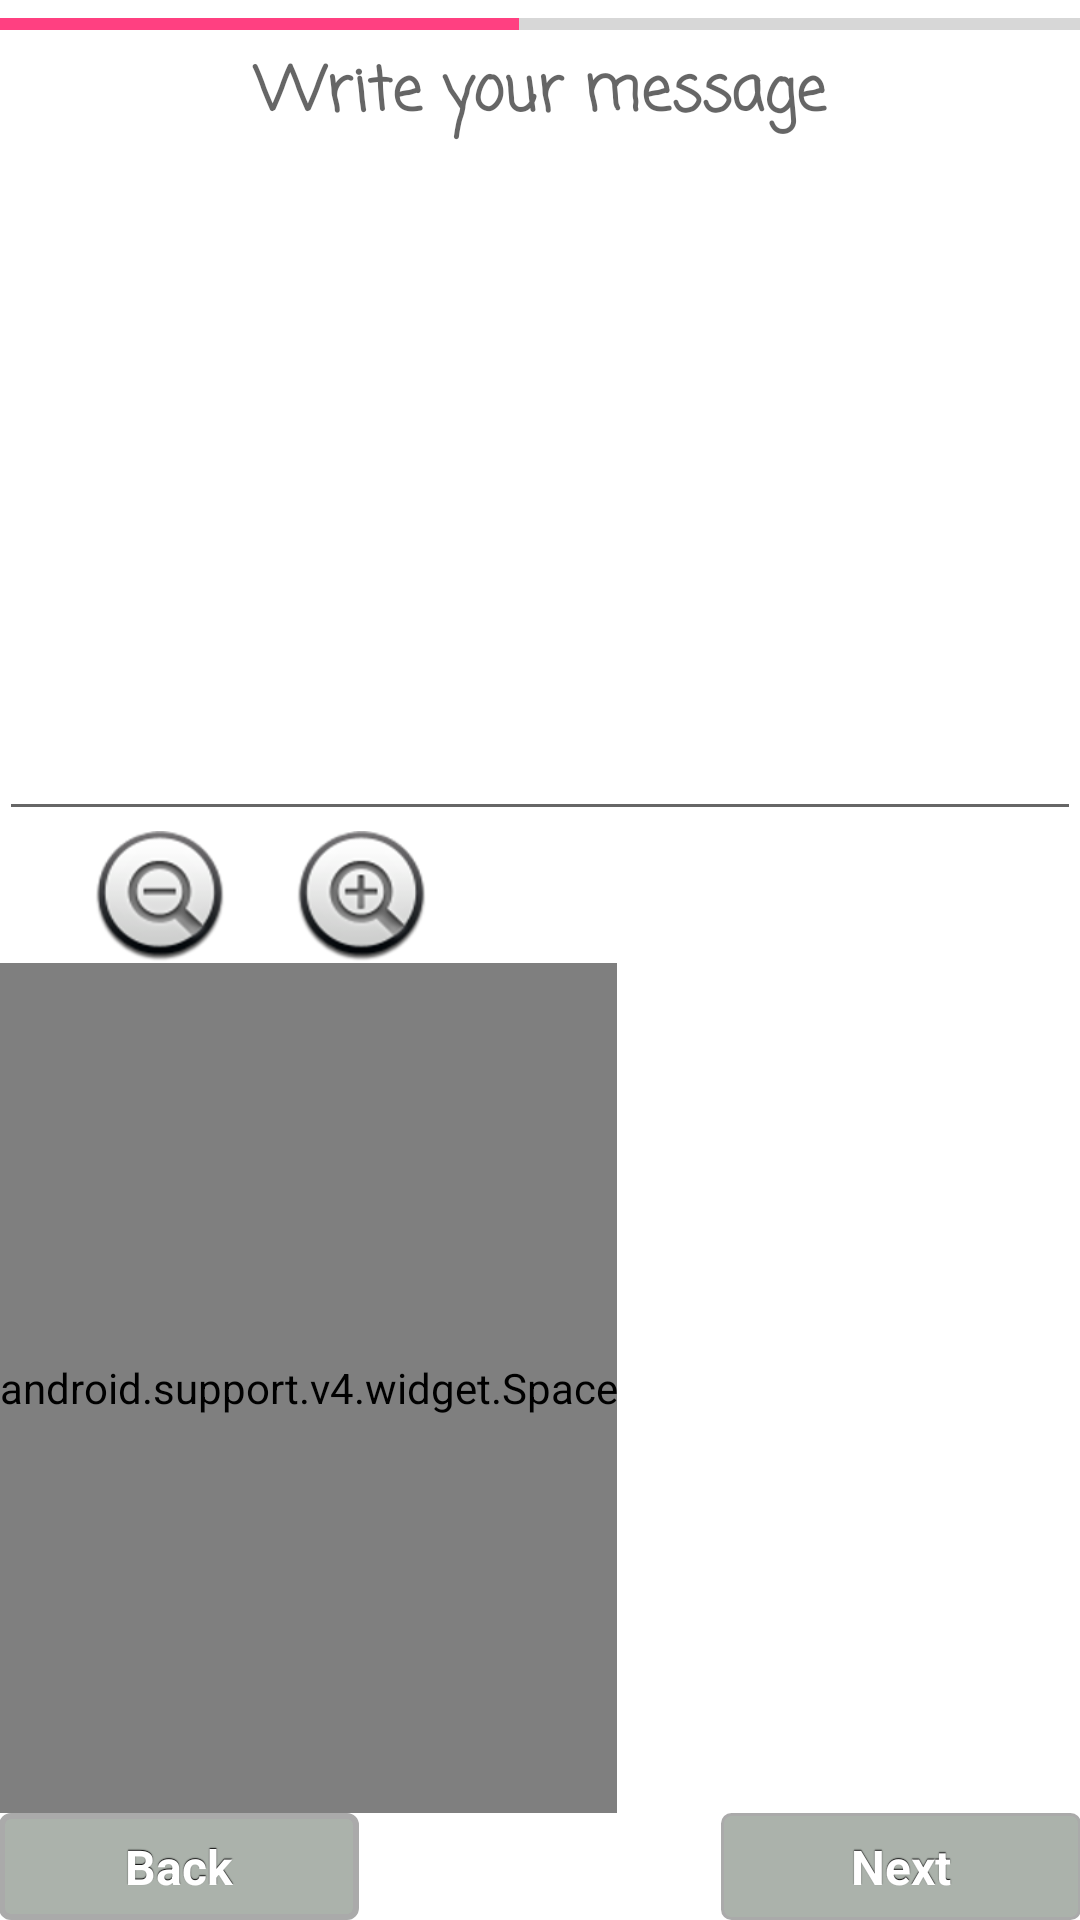

Screen size 1080*1920. Icon name, then its center in pixels as [x,y]:
minus: [159,895]
plus: [361,895]
